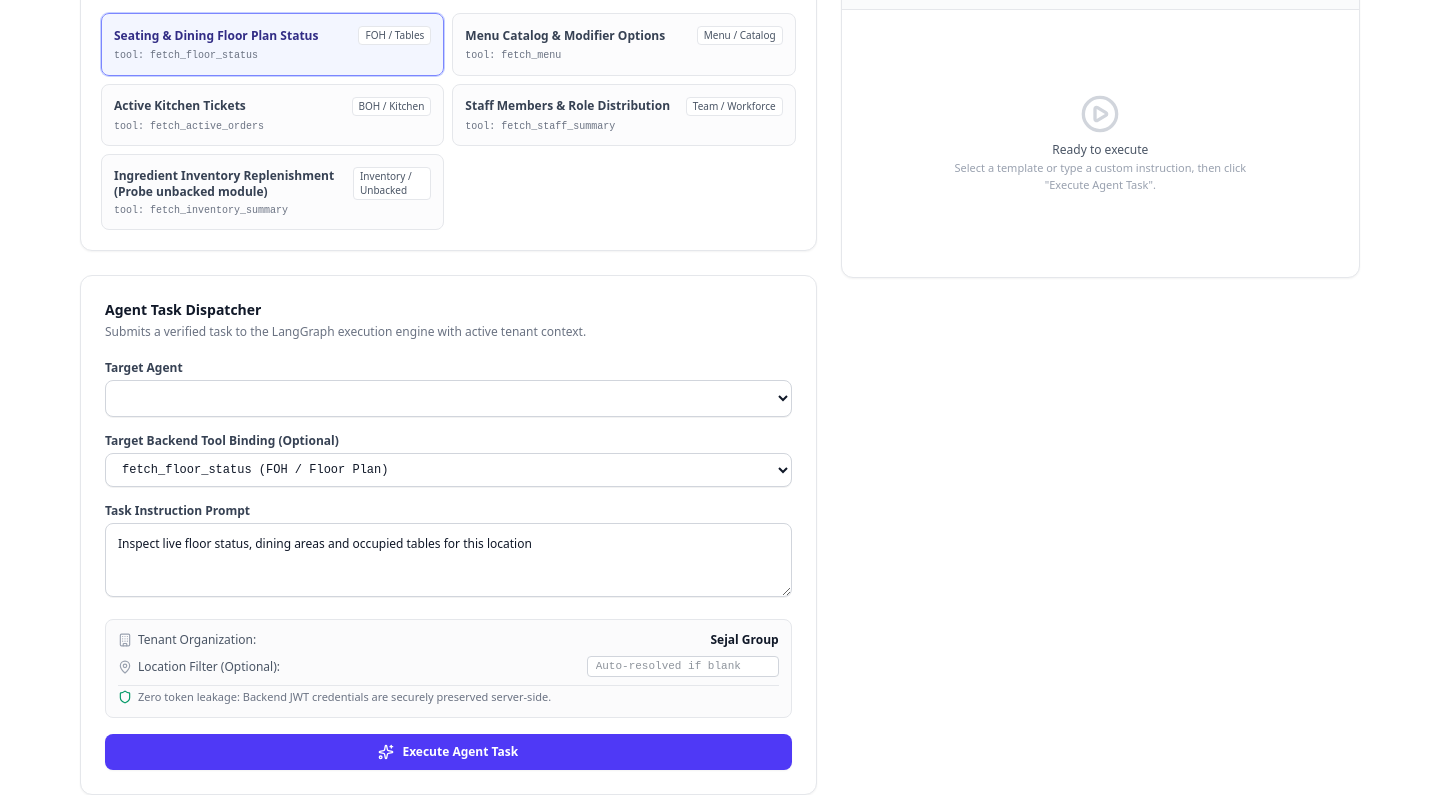
Test: AiOperationsPage Component › displays controlled NOT_IMPLEMENTED note when inventory tool is tested
(page scrolled)
Check: the heading "Agent Task Dispatcher" is shown, box x1=105 y1=300 x2=261 y2=319
Click the button "Execute Agent Task".
click(448, 752)  # box x1=105 y1=734 x2=792 y2=770
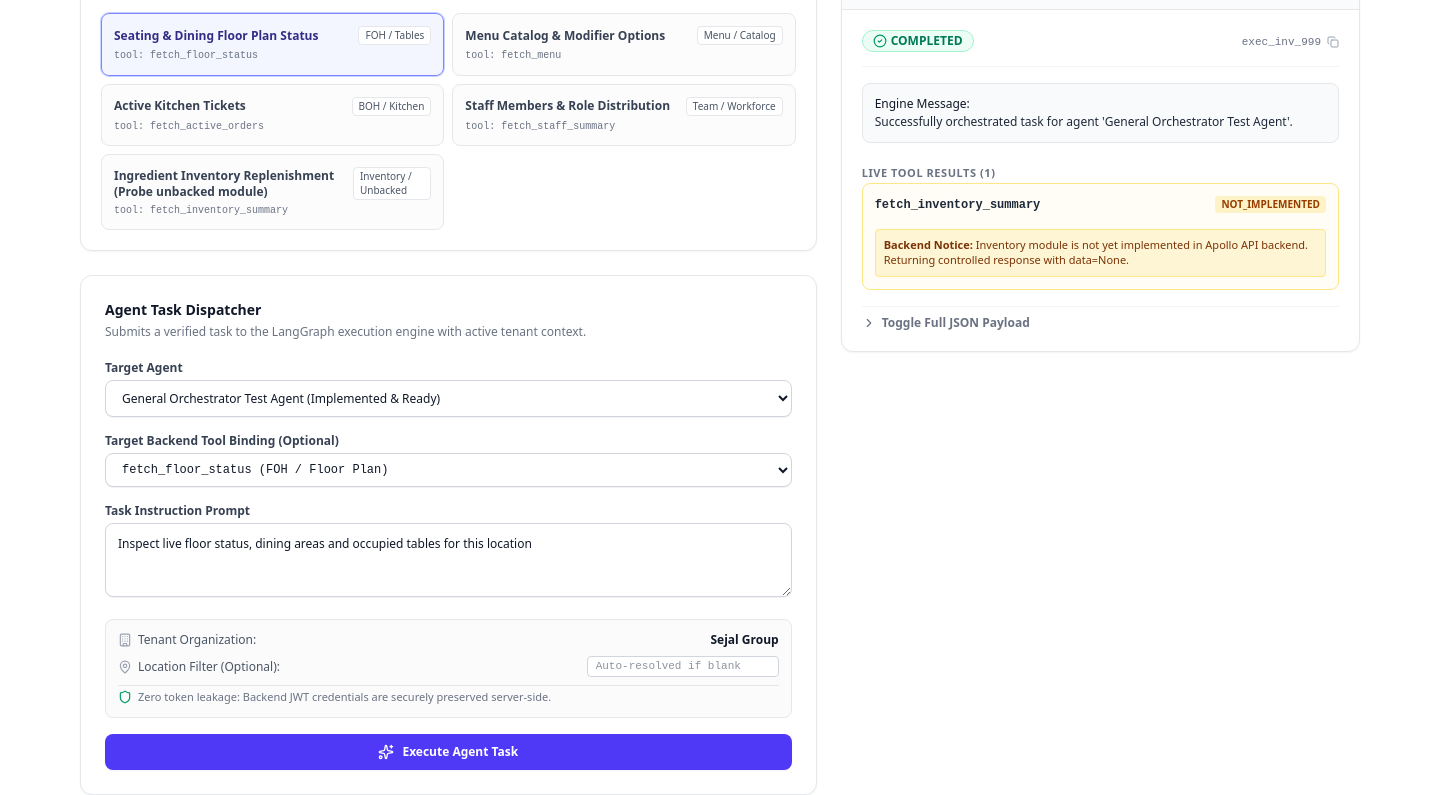
Check: the text "exec_inv_999" is shown, box x1=1242 y1=34 x2=1321 y2=50
Check: the text "NOT_IMPLEMENTED" is shown, box x1=1216 y1=196 x2=1326 y2=213
Check: the text "Inventory module is not yet implemented" is shown, box x1=884 y1=237 x2=1308 y2=267
